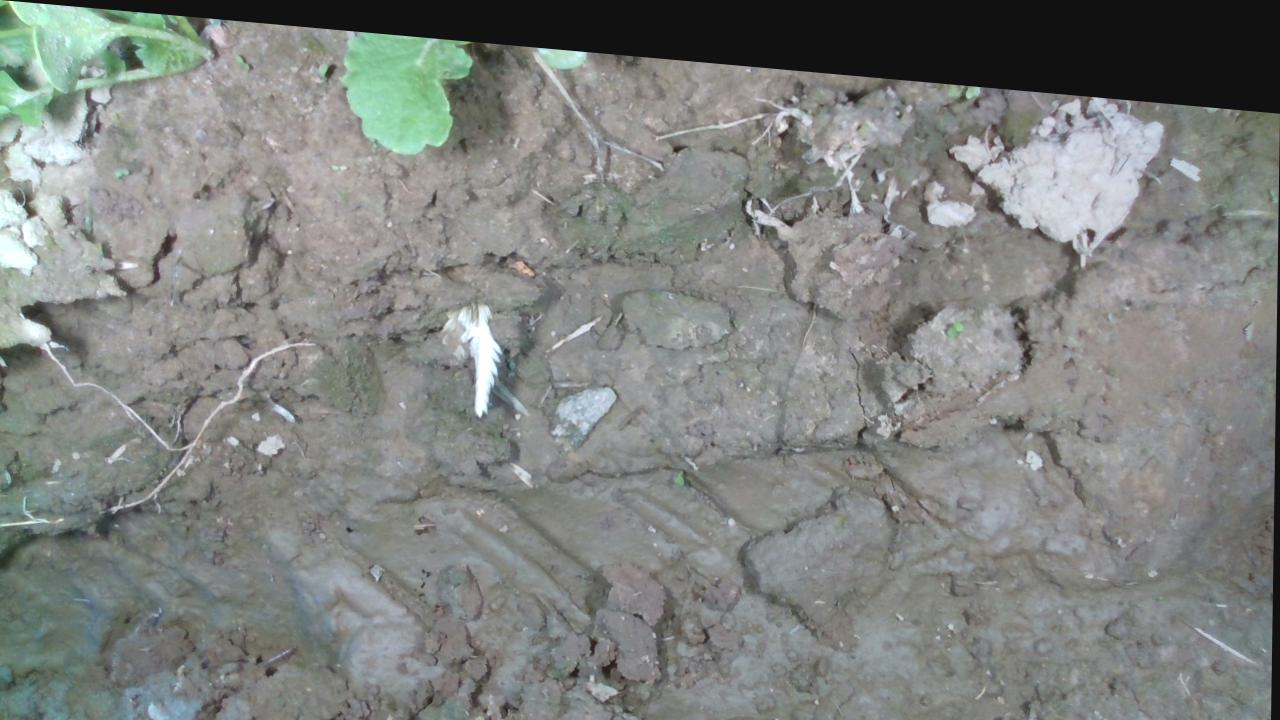weed: (944, 300, 963, 322), (113, 162, 129, 175)
